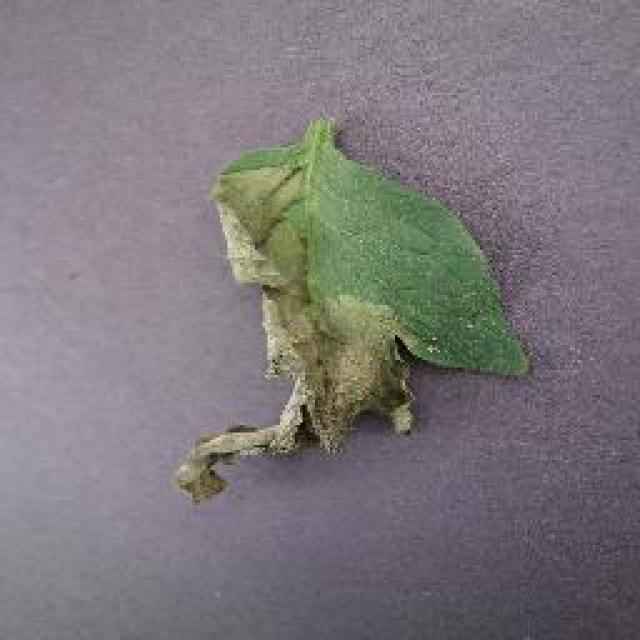Tomato late blight leaf: (166, 138, 538, 512)
